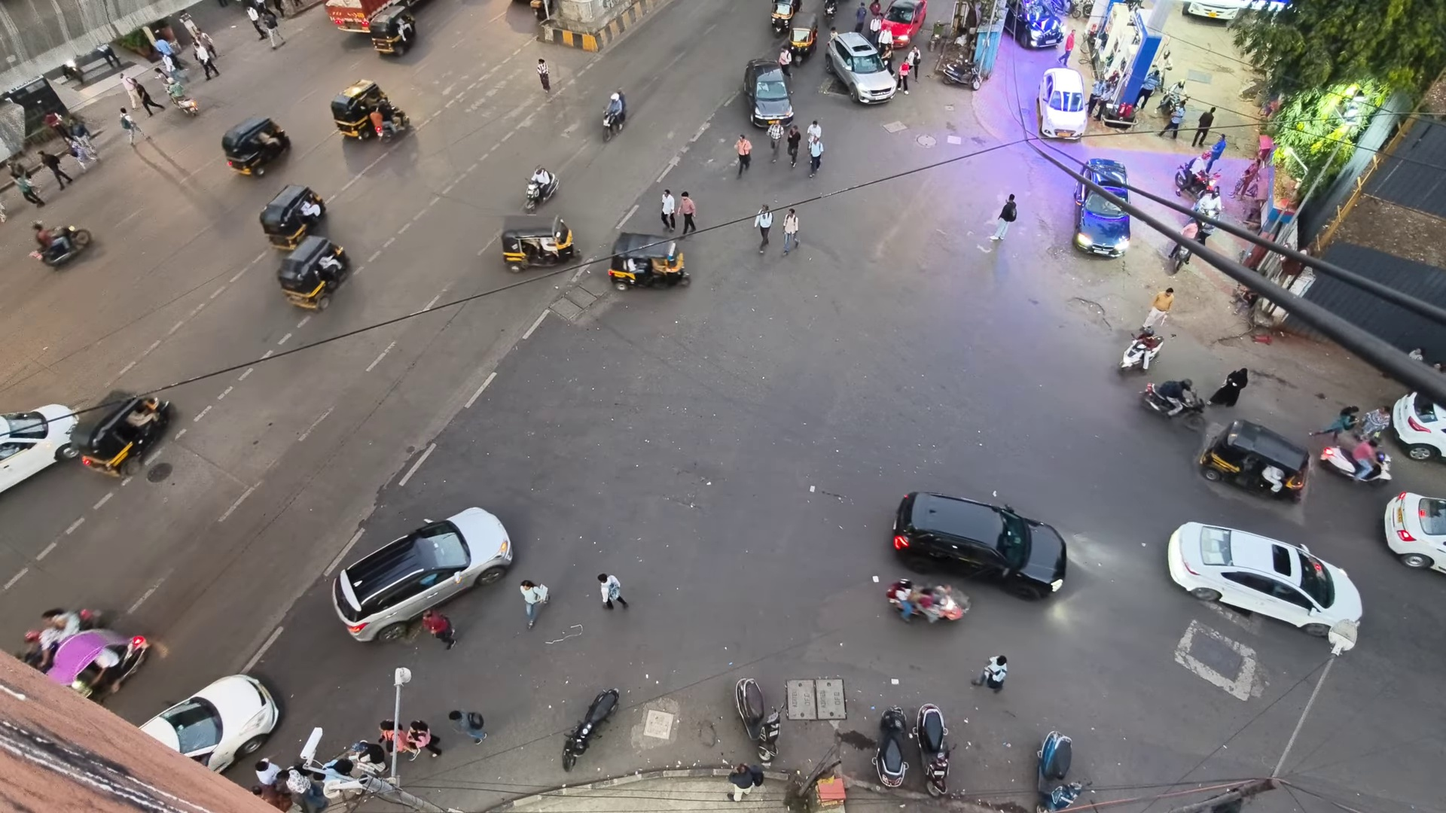driving: (331, 508, 512, 641), (1167, 523, 1362, 636), (893, 492, 1066, 598), (140, 674, 279, 772), (1198, 420, 1308, 501), (72, 390, 173, 476), (46, 628, 149, 701), (0, 404, 78, 491), (825, 32, 896, 103), (1383, 492, 1445, 571), (499, 215, 575, 273), (563, 690, 618, 770), (1074, 181, 1129, 257), (1036, 731, 1084, 812), (736, 678, 780, 766), (1036, 67, 1087, 139), (1391, 392, 1445, 460), (886, 579, 969, 623), (913, 703, 951, 796), (742, 59, 794, 126), (325, 0, 425, 32), (873, 706, 908, 787), (1142, 383, 1205, 428), (1003, 0, 1063, 47), (1319, 446, 1391, 484), (32, 225, 90, 267), (881, 0, 926, 47), (1118, 327, 1163, 372), (941, 56, 981, 90)
walking: (285, 769, 328, 812), (1310, 406, 1359, 441), (1209, 368, 1247, 406), (379, 719, 416, 757), (520, 580, 548, 629), (728, 763, 764, 801), (971, 655, 1007, 692), (422, 609, 455, 649), (38, 151, 73, 188), (406, 720, 441, 757), (448, 710, 486, 744), (990, 193, 1016, 240), (1142, 288, 1173, 327), (251, 785, 293, 811), (1136, 69, 1162, 110), (120, 108, 148, 146), (133, 80, 164, 114), (71, 119, 97, 159), (1351, 439, 1376, 480), (598, 573, 627, 608), (193, 41, 218, 80), (1191, 107, 1216, 146), (15, 173, 44, 206), (1362, 405, 1390, 439), (1158, 105, 1184, 139), (155, 37, 183, 68), (262, 11, 284, 49), (755, 205, 772, 254), (1206, 134, 1227, 172), (69, 142, 95, 172), (679, 191, 696, 236), (782, 209, 798, 255), (735, 134, 752, 177), (43, 112, 69, 140), (1087, 77, 1106, 115), (246, 4, 266, 40), (767, 121, 784, 162), (255, 759, 281, 785), (660, 189, 676, 231), (786, 125, 801, 168), (196, 30, 218, 59), (121, 73, 139, 105), (1058, 29, 1074, 65), (809, 137, 823, 176), (897, 56, 911, 94), (876, 26, 893, 56), (536, 58, 549, 93), (777, 45, 792, 75), (854, 0, 867, 33), (868, 14, 881, 47), (807, 120, 822, 140)
